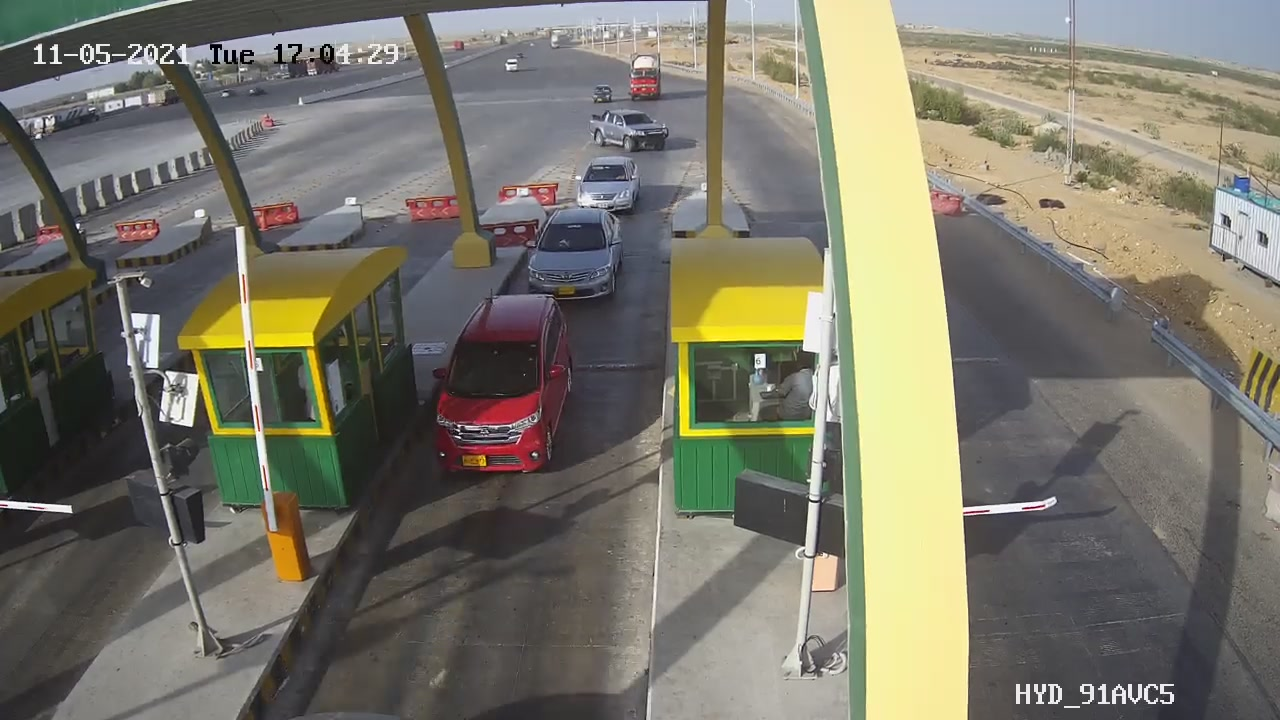F1: (412, 283, 591, 491), (509, 195, 635, 316)
